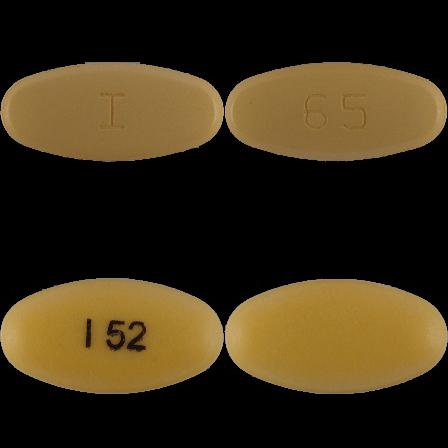65862-551: (0, 0, 224, 224)
